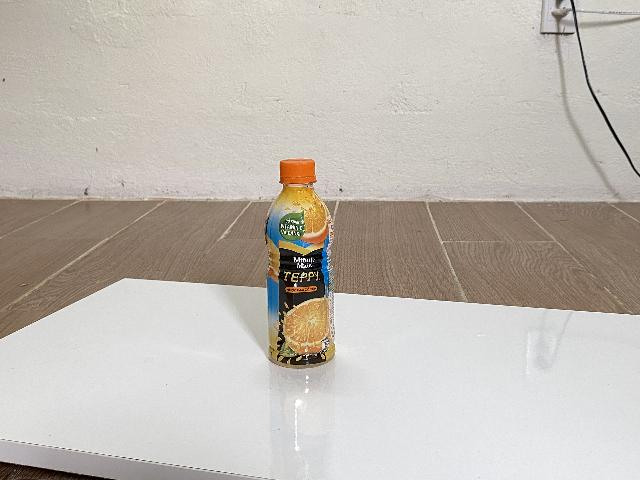teppy_orange_juice: (264, 159, 336, 370)
